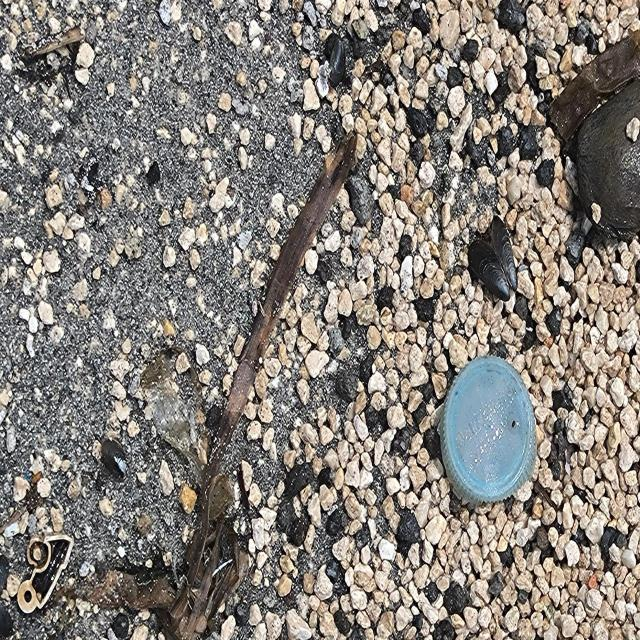plastic_waste: (440, 355, 539, 510)
